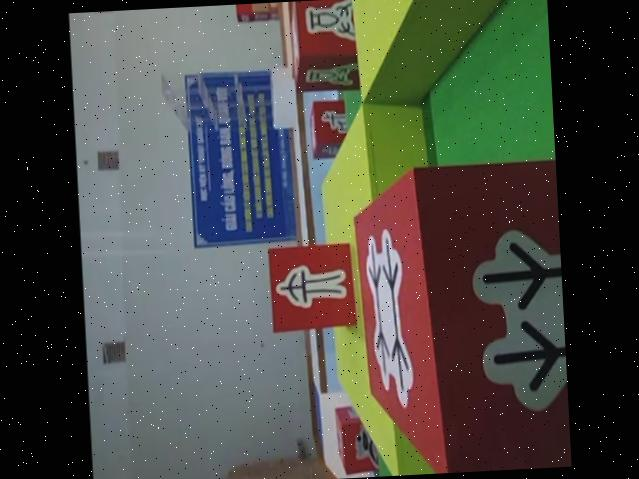R1: (331, 406, 383, 478)
R2 Fake: (264, 240, 355, 335)
R2 Real: (348, 158, 572, 477), (287, 0, 369, 91), (307, 96, 351, 158)
